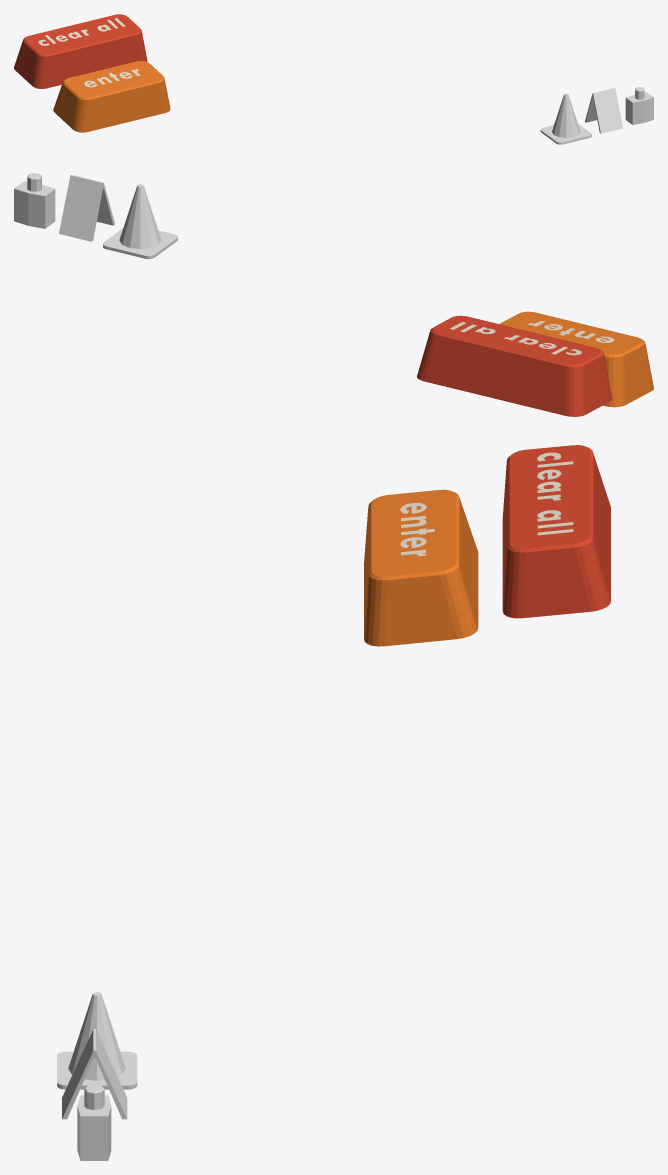
The model's file is enter clear all.fbx.
3 views of the same model, one above another, from view 1: azimuth 30°, elevation 25°; view 2: azimuth 150°, elevation 25°; view 3: azimuth 270°, elevation 25° (orthographic). The views are drawn at different scales.
Parts seen in each view (by area): view 1: Cube.222, Cube.221, Cylinder.021, Plane.008, Cube.220; view 2: Cube.222, Cube.221, Cylinder.021, Plane.008, Cube.220; view 3: Cube.222, Cube.221, Cylinder.021, Cube.220, Plane.008.
Part boxes in pixels (box(x1,y1,x2,y2)): Cube.222: box(14, 14, 147, 88); Cube.221: box(53, 61, 170, 132); Cylinder.021: box(540, 93, 591, 144); Plane.008: box(584, 88, 622, 133); Cube.220: box(625, 87, 653, 124); Cube.222: box(417, 315, 612, 416); Cube.221: box(499, 311, 653, 407); Cylinder.021: box(103, 184, 177, 259); Plane.008: box(59, 174, 114, 241); Cube.220: box(14, 173, 55, 228); Cube.222: box(502, 445, 610, 618); Cube.221: box(364, 489, 478, 646); Cylinder.021: box(57, 992, 137, 1089); Cube.220: box(77, 1084, 111, 1160); Plane.008: box(62, 1029, 127, 1119).
Size of the model in its own units: 568 by 1210 by 255.
